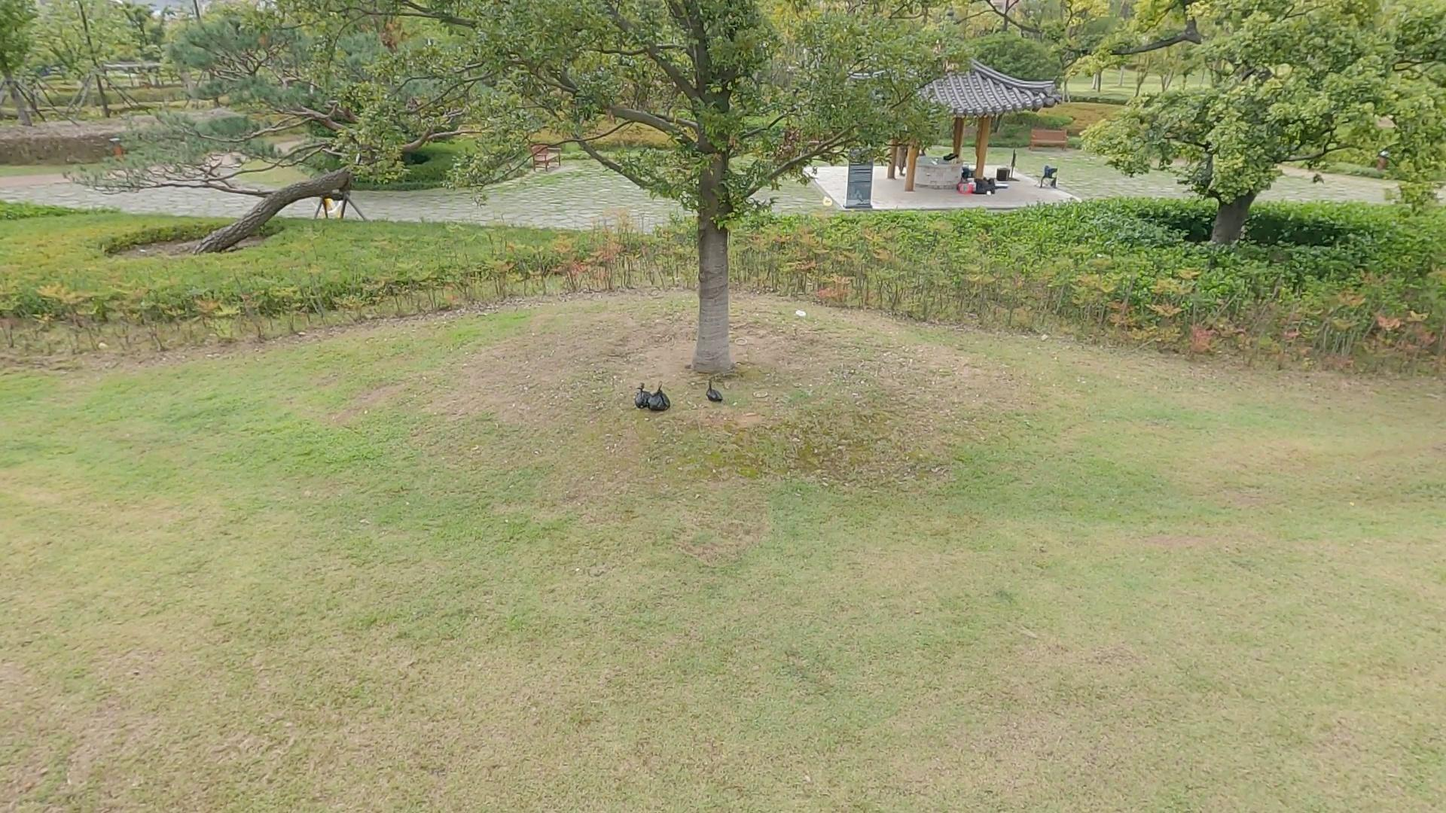trash: (650, 384, 675, 415), (706, 378, 726, 402), (638, 382, 654, 409)
